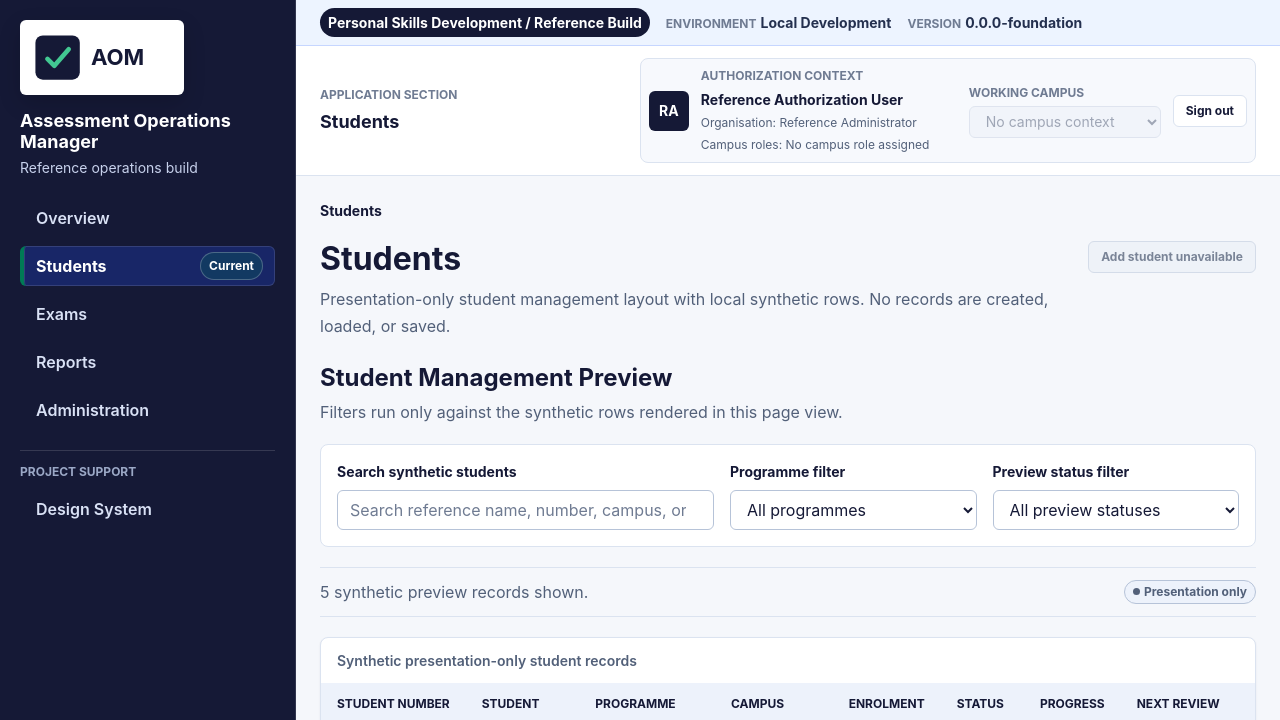
Test: application routing foundation › renders synthetic student records with local-only filtering
Check: the heading "Students" is shown, box [320,239,461,278]
Check: the button "Add student unavailable" is disabled, box [1088,241,1256,273]
Type "1005" into the search field labelled "Search synthetic students" at (526, 510), box [337,490,714,530]
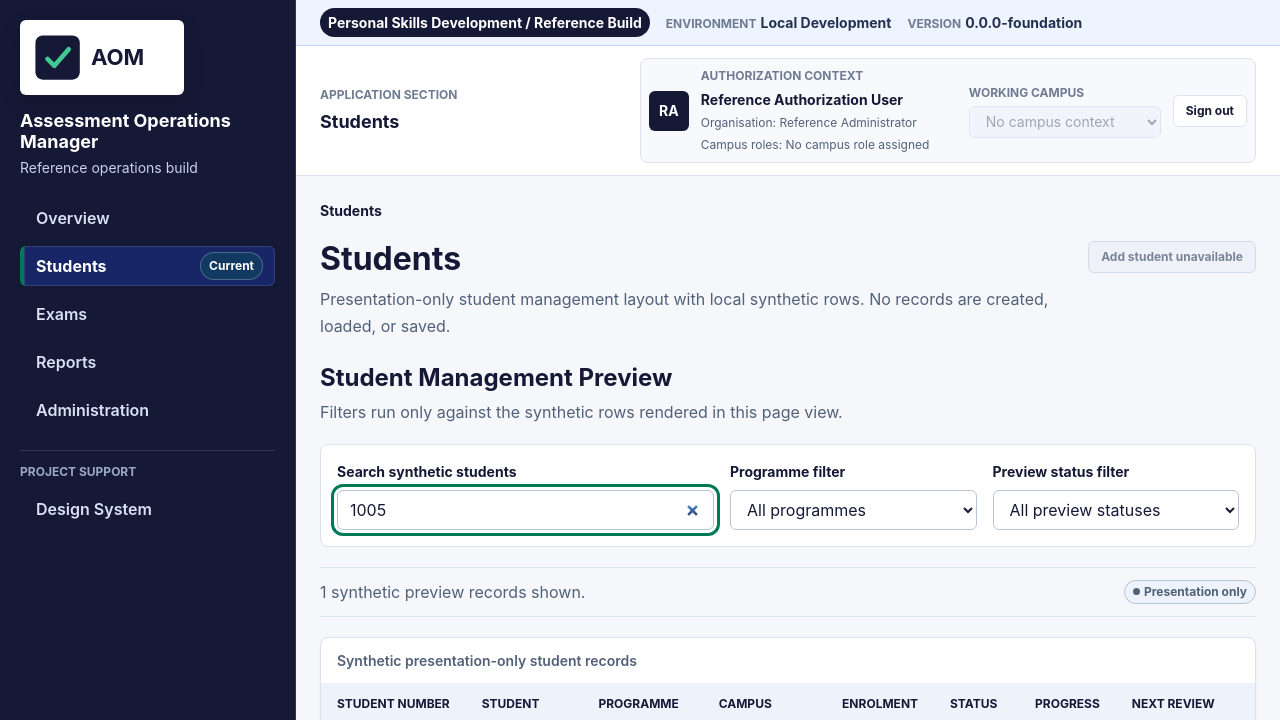
Check: the text "1 synthetic preview records shown." is shown, box [320,580,585,604]
